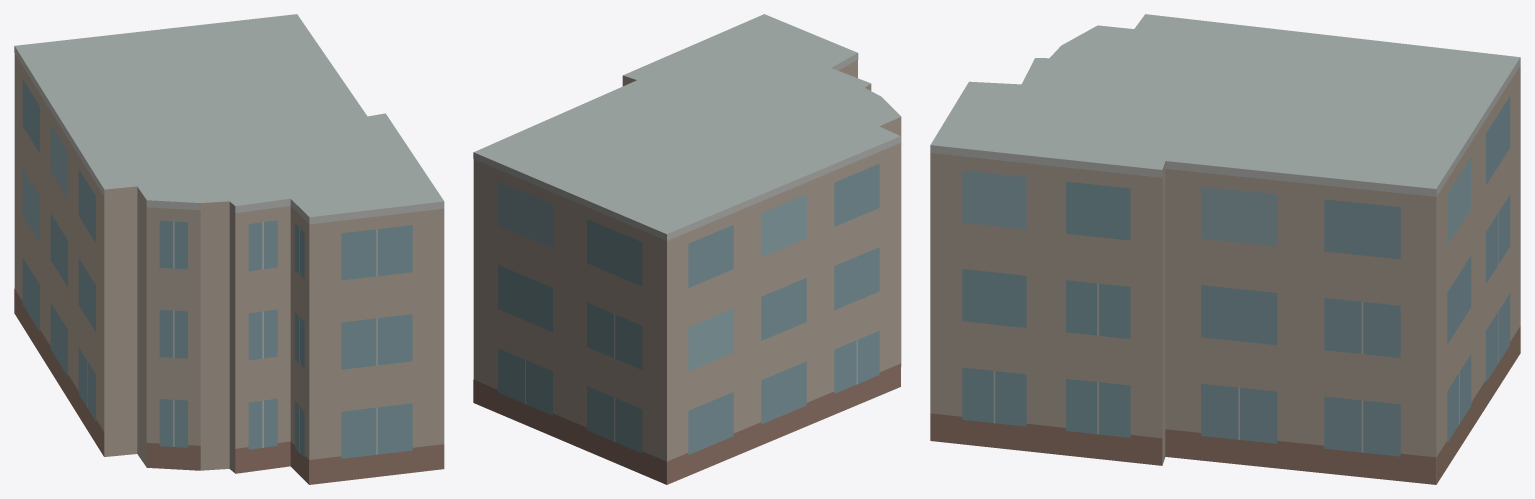
File: survey-upis-32718311.glb
The picture shows the model from 3 angles, left to right: view 1: azimuth 30°, elevation 25°; view 2: azimuth 150°, elevation 25°; view 3: azimuth 270°, elevation 25°; orthographic projection. The views are drawn at different scales.
Visible parts, largest first — view 1: survey-upis-32718311.tmp; view 2: survey-upis-32718311.tmp; view 3: survey-upis-32718311.tmp.
Part boxes in pixels (box(x1,y1,x2,y2)): survey-upis-32718311.tmp: box(14, 14, 444, 484); survey-upis-32718311.tmp: box(473, 14, 901, 484); survey-upis-32718311.tmp: box(930, 14, 1520, 484).
Bounding box in the file's own units: 11.62 × 9.15 × 16.56.
